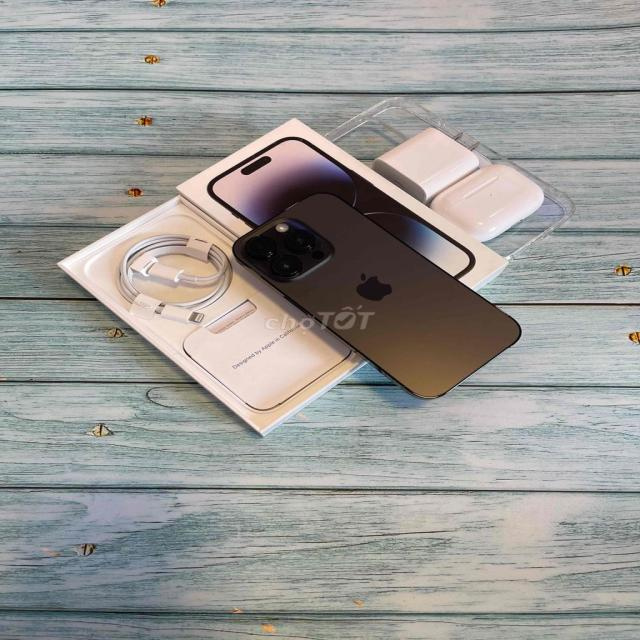gen_14: (230, 190, 530, 410)
